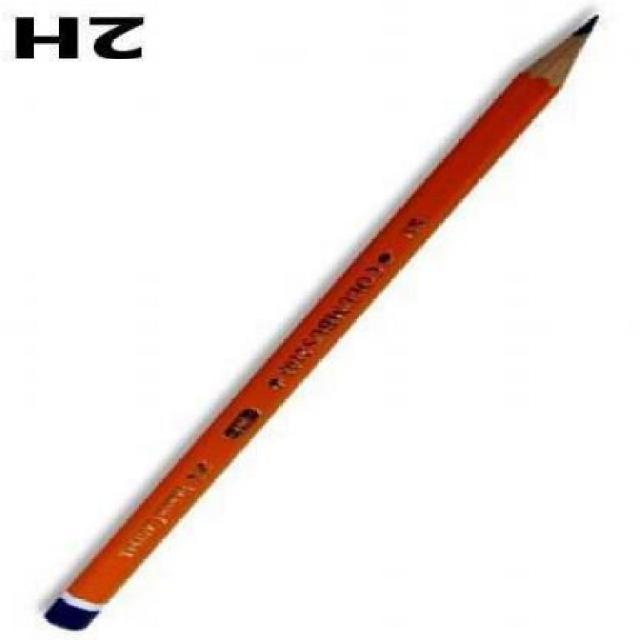pencil: (506, 0, 612, 106)
